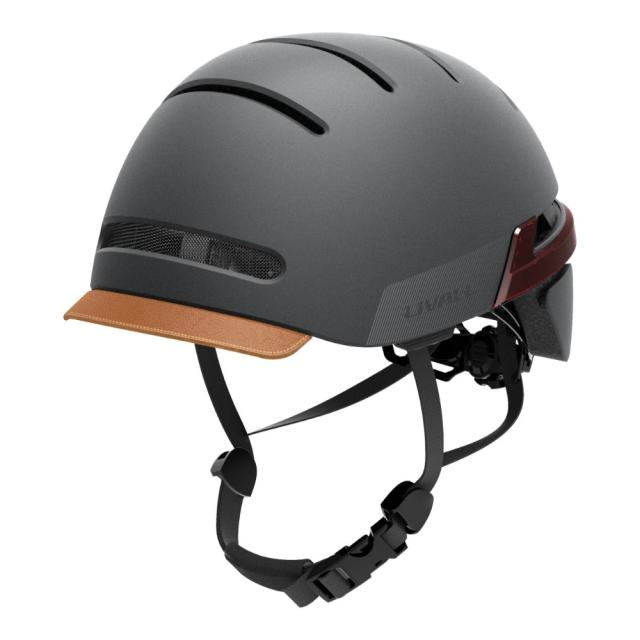Helmet: (80, 29, 576, 372)
